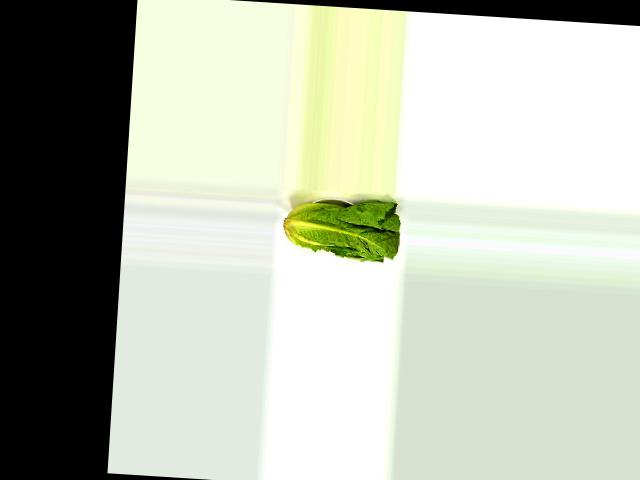lettuce: (280, 193, 402, 265)
